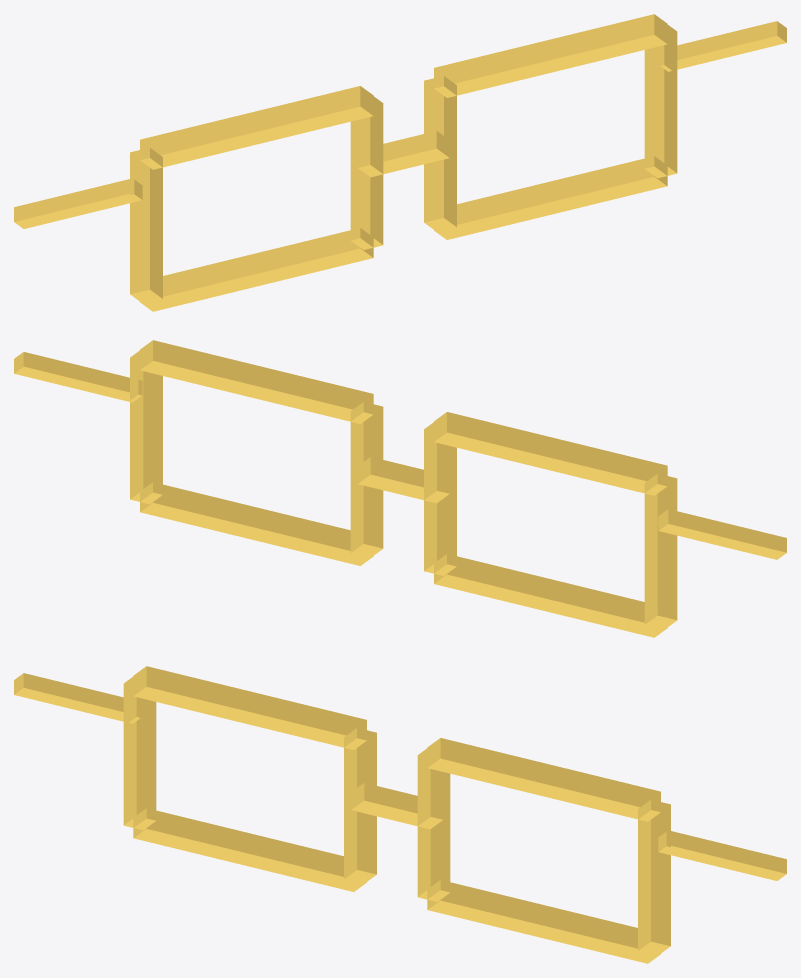
Rendered from aviator-gold.glb.
The picture shows the model from 3 angles, top to bottom: view 1: azimuth 30°, elevation 25°; view 2: azimuth 150°, elevation 25°; view 3: azimuth 330°, elevation 25°; orthographic projection.
Visible parts, largest first — view 1: Aviator Gold Demo Frame; view 2: Aviator Gold Demo Frame; view 3: Aviator Gold Demo Frame.
Boxes of the visible parts, bbox=[...] form: Aviator Gold Demo Frame: bbox=[14, 14, 786, 311]; Aviator Gold Demo Frame: bbox=[14, 340, 786, 637]; Aviator Gold Demo Frame: bbox=[14, 666, 786, 963].
Size of the model in its own units: 2.7 by 0.55 by 0.09.
